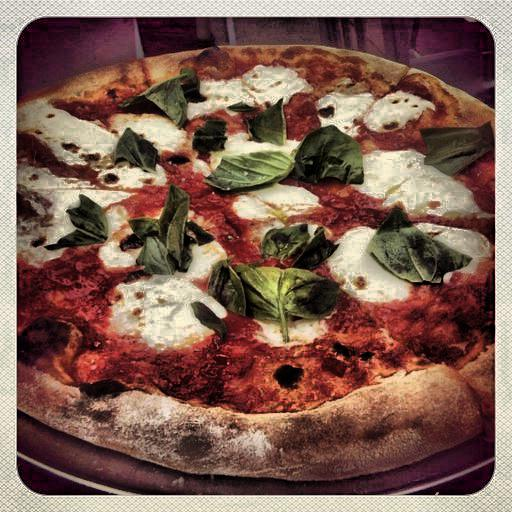pizza: (2, 59, 499, 466)
